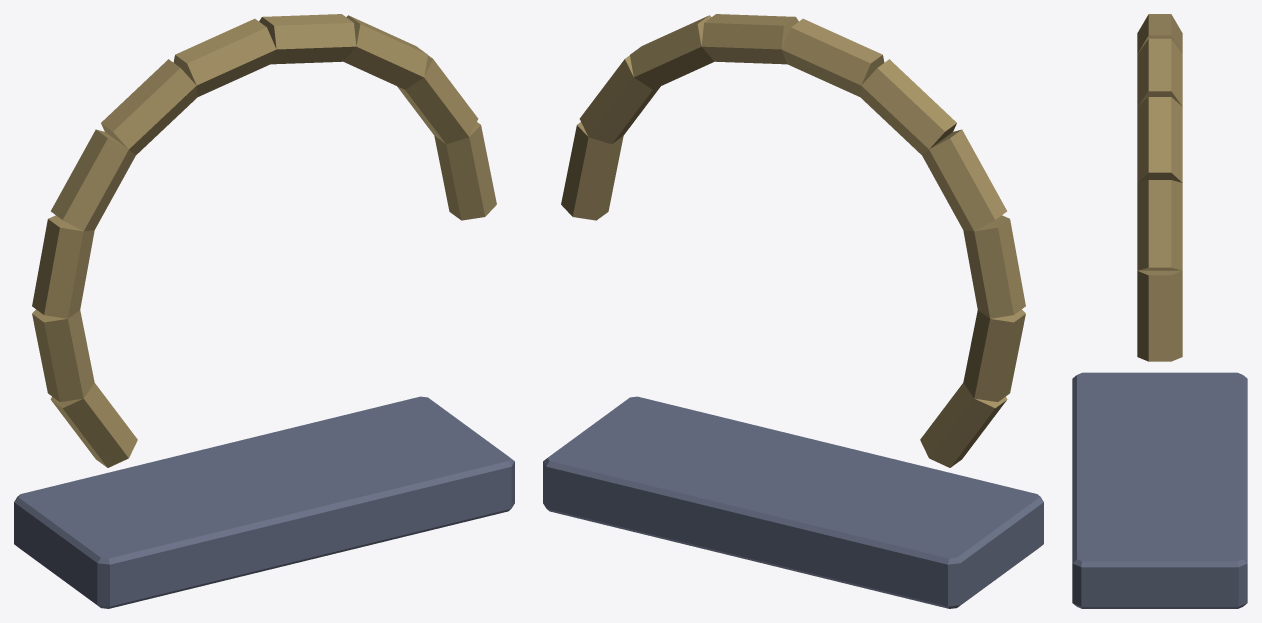
File: broken-ring.glb
The picture shows the model from 3 angles, left to right: view 1: azimuth 30°, elevation 25°; view 2: azimuth 150°, elevation 25°; view 3: azimuth 270°, elevation 25°; orthographic projection. The views are drawn at different scales.
Parts seen in each view (by area): view 1: broken-ring__body; view 2: broken-ring__body; view 3: broken-ring__body.
Boxes of the visible parts, x1,y1,x2,y2 form: broken-ring__body: (14,14,514,608); broken-ring__body: (543,14,1043,608); broken-ring__body: (1072,14,1247,608).
Bounding box in the file's own units: 1.41 × 1.51 × 0.5.
